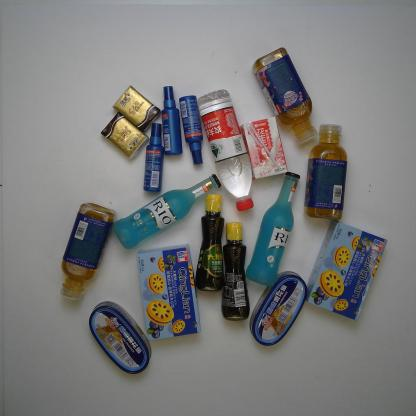Alcohol: (112, 174, 222, 250), (245, 171, 301, 288)
Canned Food: (87, 300, 153, 374), (249, 271, 308, 346)
Dessert: (301, 219, 388, 321), (135, 243, 202, 342)
Drink: (196, 88, 255, 212), (250, 46, 318, 146), (60, 200, 116, 302), (303, 123, 348, 219)
Milk: (239, 116, 289, 180)
Personal Hygiene: (178, 94, 205, 166), (160, 85, 184, 156), (142, 122, 164, 192)
Seasoner: (195, 192, 225, 293), (221, 220, 250, 322)
Tissue: (100, 111, 149, 161), (113, 84, 160, 132)
